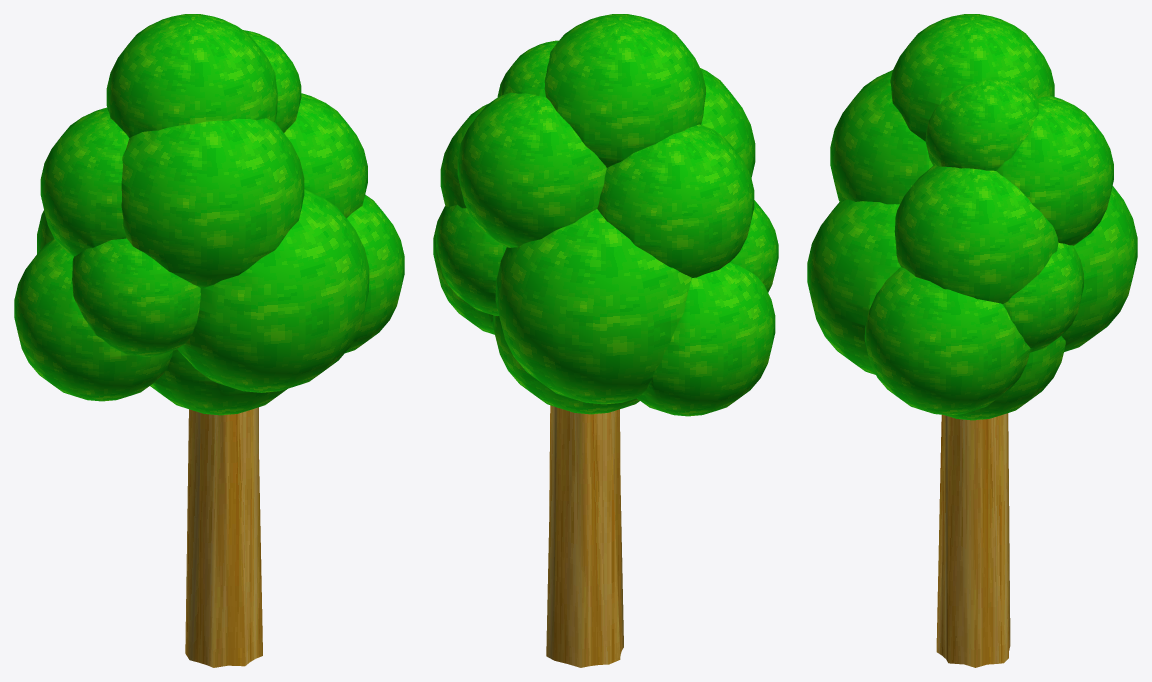
File: Arbol.obj
3 renders of one model, left to right at view 1: azimuth 30°, elevation 25°; view 2: azimuth 150°, elevation 25°; view 3: azimuth 270°, elevation 25°, orthographic. The views are drawn at different scales.
Parts seen in each view (by area): view 1: Arbol:polySurface2; view 2: Arbol:polySurface2; view 3: Arbol:polySurface2.
Boxes of the visible parts, box(x1,y1,x2,y2) form: Arbol:polySurface2: box(14, 14, 404, 667); Arbol:polySurface2: box(433, 14, 778, 667); Arbol:polySurface2: box(807, 14, 1137, 667).
Bounding box in the file's own units: 0.9629 × 1.72 × 0.8359.
Materials: 2 (2 with a texture image).
